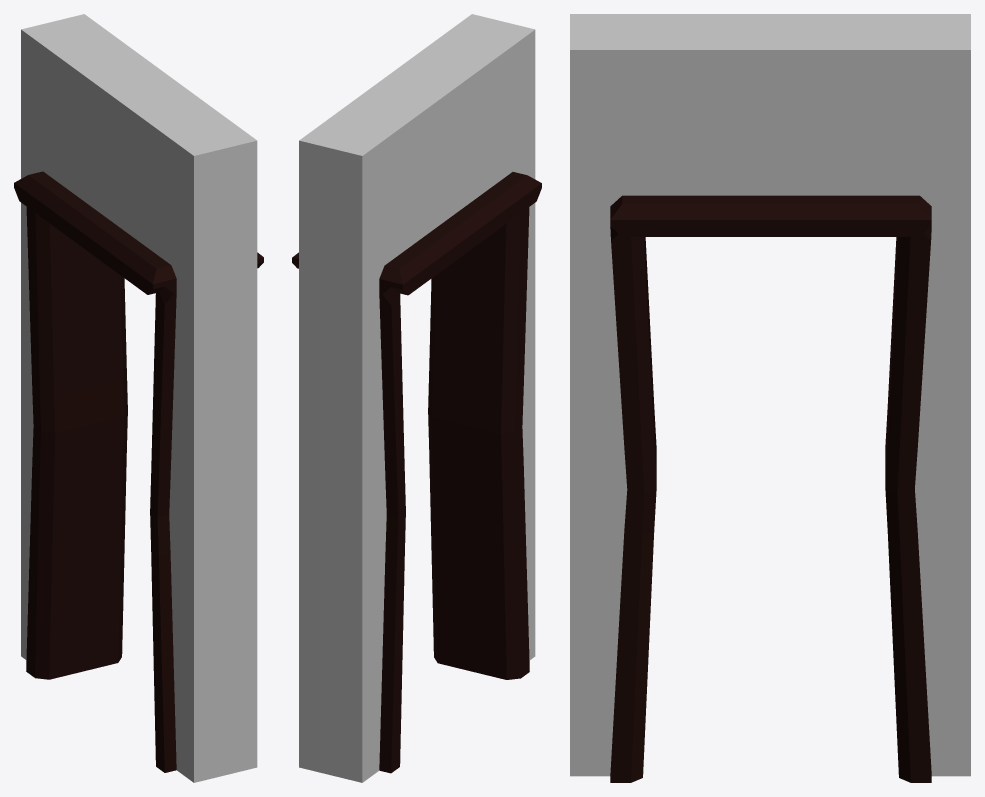
Rendered from Porte.obj.
The picture shows the model from 3 angles, left to right: view 1: azimuth 30°, elevation 25°; view 2: azimuth 150°, elevation 25°; view 3: azimuth 270°, elevation 25°; orthographic projection. The views are drawn at different scales.
Visible parts, largest first — view 1: Cube; view 2: Cube; view 3: Cube.
Part boxes in pixels (bbox=[...]): Cube: bbox=[14, 14, 263, 782]; Cube: bbox=[292, 14, 541, 782]; Cube: bbox=[570, 14, 970, 782].
Bounding box in the file's own units: 0.9263 × 5 × 2.5.
